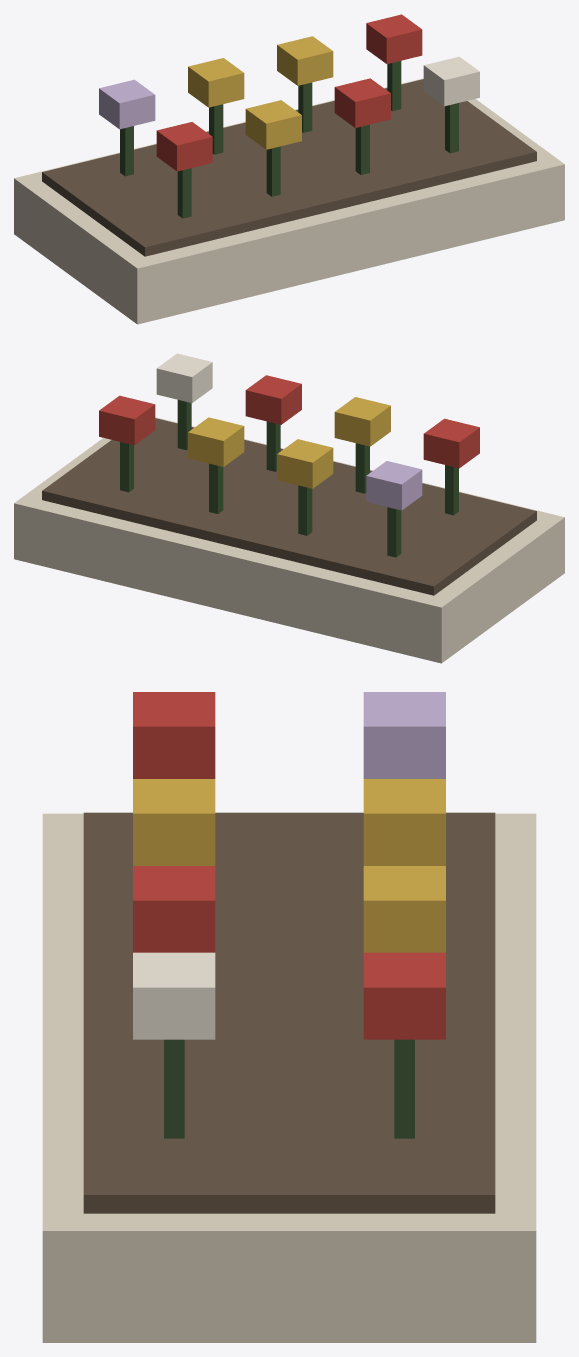
Rendered from prop_flowerbed.glb.
The picture shows the model from 3 angles, top to bottom: view 1: azimuth 30°, elevation 25°; view 2: azimuth 150°, elevation 25°; view 3: azimuth 270°, elevation 25°; orthographic projection. The views are drawn at different scales.
Visible parts, largest first — view 1: prop_flowerbed; view 2: prop_flowerbed; view 3: prop_flowerbed.
Part boxes in pixels (x1,y1,x2,y2): prop_flowerbed: (14, 14, 564, 324); prop_flowerbed: (14, 353, 564, 663); prop_flowerbed: (42, 692, 536, 1342).
Bounding box in the file's own units: 2.4 × 0.7899 × 1.2.
Materials: 1 (1 with a texture image).
